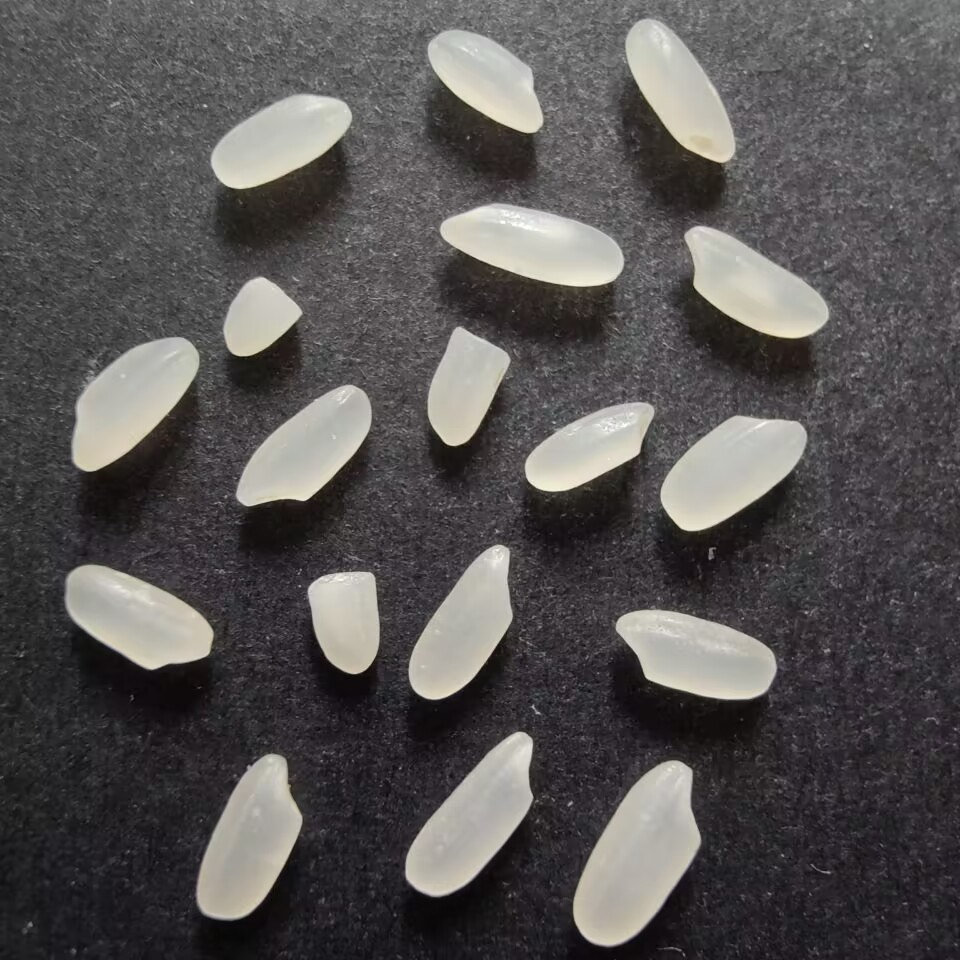broken: (421, 325, 513, 454), (301, 566, 383, 675), (220, 271, 304, 361)
rice: (570, 758, 704, 950), (402, 729, 541, 898), (191, 748, 308, 923), (68, 332, 202, 473), (659, 412, 811, 534), (406, 542, 520, 703), (680, 223, 832, 343), (234, 383, 375, 510), (621, 13, 735, 166), (436, 202, 628, 292), (61, 561, 216, 672), (614, 607, 777, 704), (210, 90, 354, 190), (423, 24, 547, 137), (525, 397, 658, 492)
